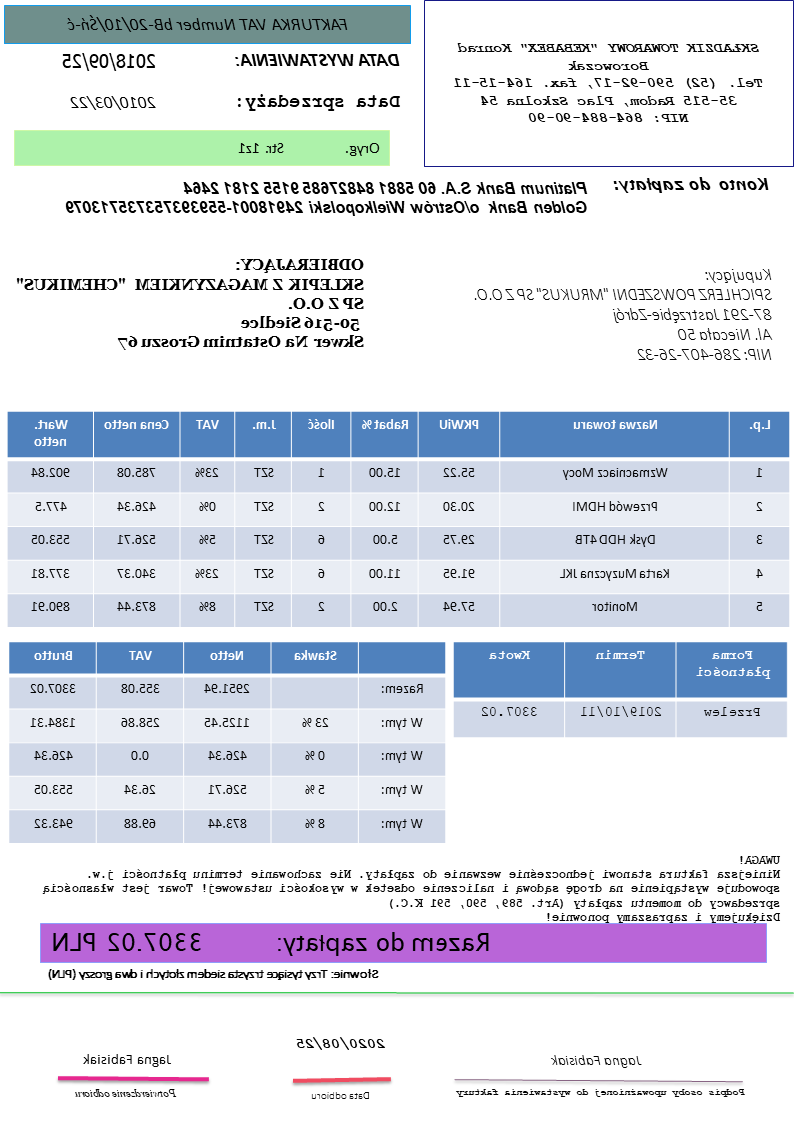Table: (6, 409, 792, 627), (8, 641, 446, 845), (452, 639, 790, 740)
TextBox: (42, 853, 783, 926), (16, 256, 366, 351), (473, 264, 776, 363), (451, 39, 764, 126), (64, 177, 591, 217), (51, 927, 493, 959), (46, 965, 382, 984), (63, 14, 352, 35), (455, 1084, 748, 1100), (234, 90, 403, 114), (612, 174, 773, 197), (232, 50, 403, 70), (236, 139, 383, 159), (60, 49, 159, 72), (73, 1085, 179, 1101), (83, 1051, 174, 1068), (68, 94, 158, 111), (550, 1053, 644, 1068), (294, 1036, 387, 1051), (309, 1088, 373, 1103)
